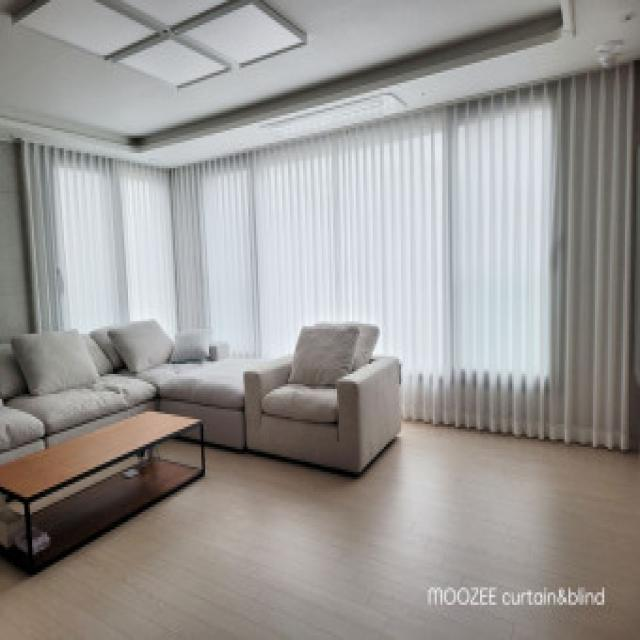Sofa: (2, 318, 394, 470)
Table: (12, 409, 206, 548)
window: (12, 128, 620, 378)
